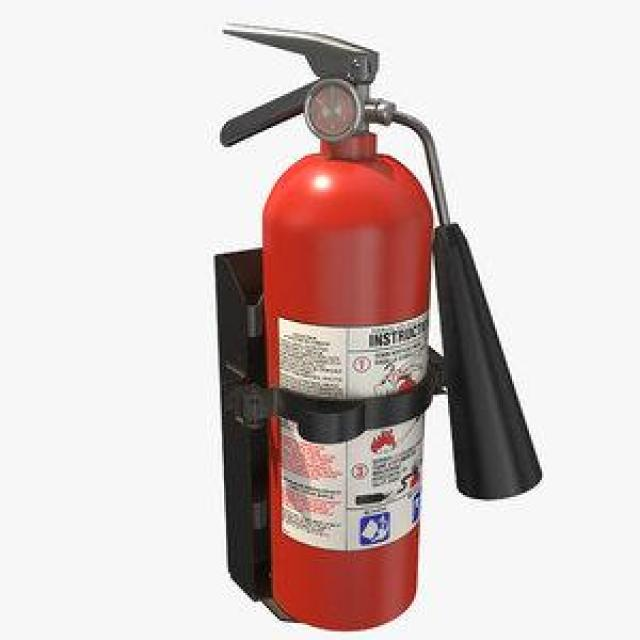fire_extinguisher: (209, 18, 546, 635)
